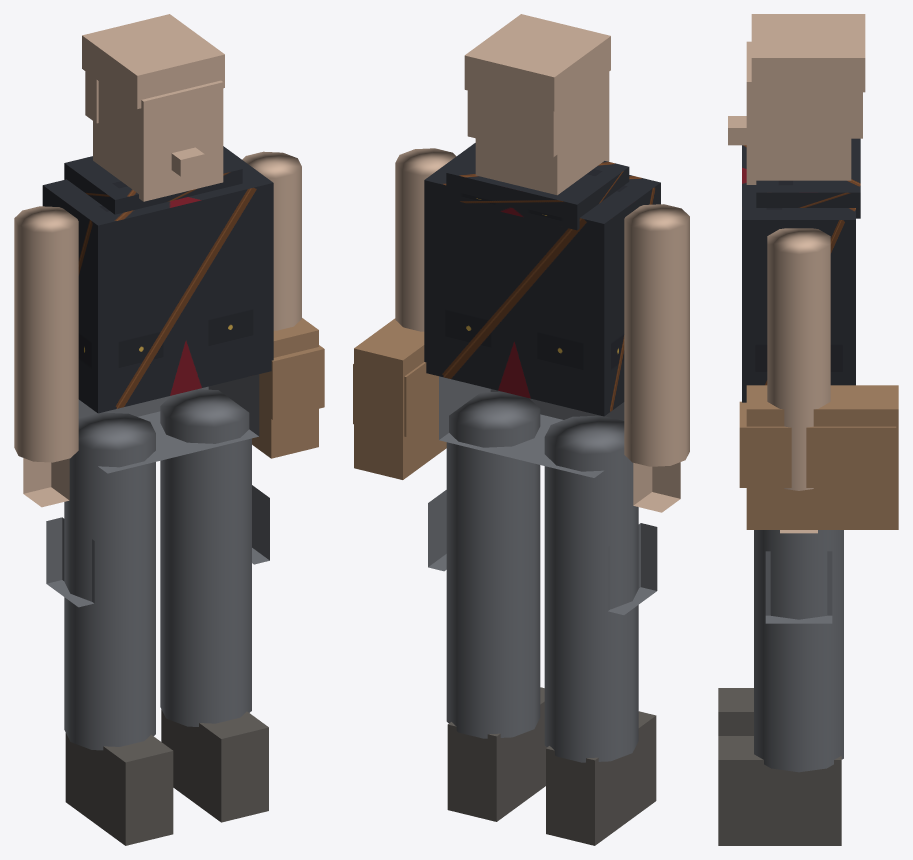
File: pisecops_character_realistic.glb
3 views of the same model, side by side, from view 1: azimuth 30°, elevation 25°; view 2: azimuth 150°, elevation 25°; view 3: azimuth 270°, elevation 25° (orthographic). The views are drawn at different scales.
Visible parts, largest first — view 1: Protagonist_Pants, Protagonist_Torso, Protagonist_Arms, Protagonist_Head, Protagonist_Boots, Protagonist_Satchel; view 2: Protagonist_Pants, Protagonist_Torso, Protagonist_Arms, Protagonist_Head, Protagonist_Boots, Protagonist_Satchel; view 3: Protagonist_Pants, Protagonist_Satchel, Protagonist_Head, Protagonist_Torso, Protagonist_Arms, Protagonist_Boots.
Boxes of the visible parts, x1,y1,x2,y2 form: Protagonist_Pants: [46, 374, 269, 750]; Protagonist_Torso: [42, 146, 273, 413]; Protagonist_Arms: [14, 151, 301, 507]; Protagonist_Head: [82, 14, 224, 201]; Protagonist_Boots: [65, 709, 268, 845]; Protagonist_Satchel: [252, 318, 324, 458]; Protagonist_Pants: [428, 376, 657, 762]; Protagonist_Torso: [424, 143, 660, 416]; Protagonist_Arms: [395, 148, 689, 512]; Protagonist_Head: [464, 14, 610, 195]; Protagonist_Boots: [447, 687, 656, 845]; Protagonist_Satchel: [353, 318, 446, 479]; Protagonist_Pants: [754, 530, 843, 772]; Protagonist_Satchel: [739, 385, 898, 529]; Protagonist_Head: [728, 14, 865, 184]; Protagonist_Torso: [742, 138, 860, 402]; Protagonist_Arms: [767, 228, 830, 533]; Protagonist_Boots: [718, 688, 841, 845].
Size of the model in its own units: 0.7 by 1.8 by 0.38.
5 materials, 1 textured.
